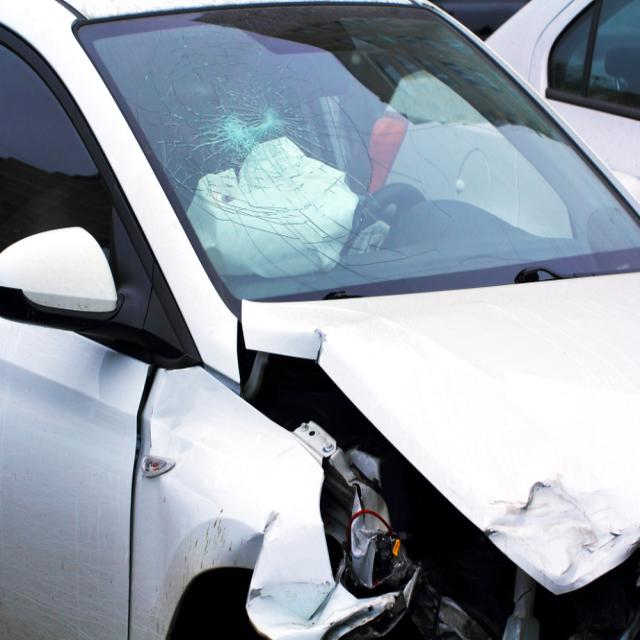Cabossage: (142, 375, 231, 483), (276, 329, 351, 396)
Dechirure: (238, 315, 639, 640), (310, 449, 407, 608), (242, 500, 303, 546), (313, 330, 328, 372)
Fissure: (124, 19, 377, 258)
Rayure: (498, 469, 631, 590), (135, 497, 230, 639)
